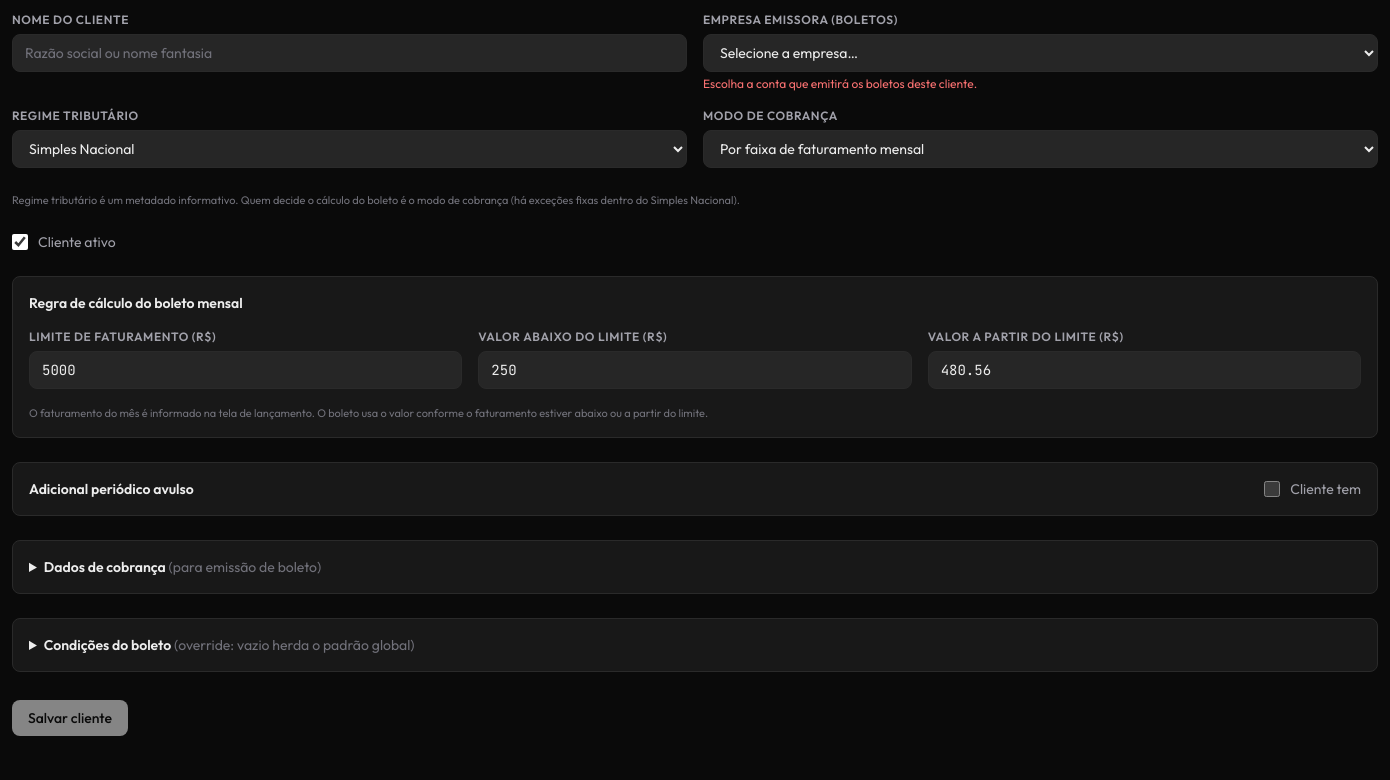
ClienteContabilidadeForm › bloqueia salvar até escolher a empresa emissora e preencher o nome (regra faixa_faturamento vem pré-preenchida)
expect the button "Salvar cliente" is disabled: met, box [12, 700, 128, 736]
Type "Padaria Bom Pão Ltda" into the field labelled "Nome do cliente" at point(350, 53), box [12, 34, 687, 72]
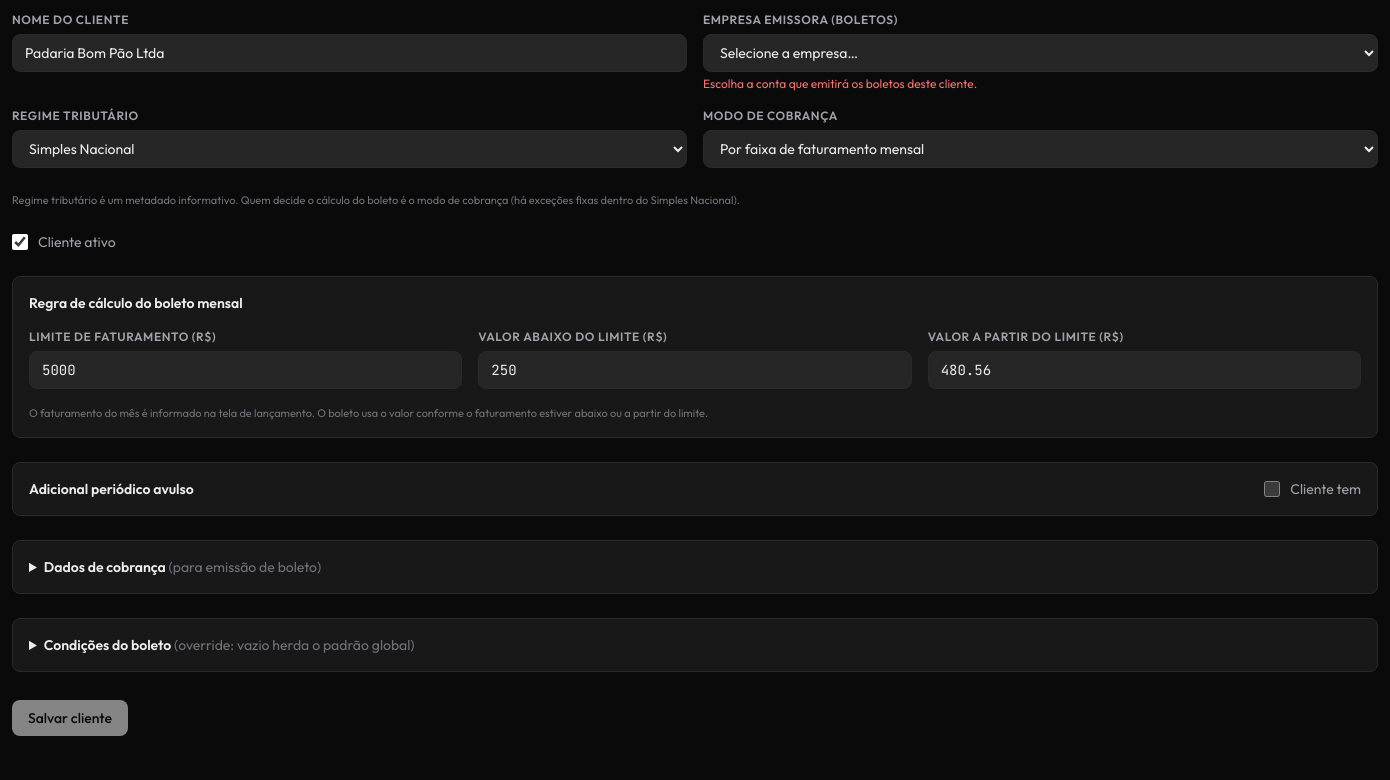
expect the button "Salvar cliente" is disabled: met, box [12, 700, 128, 736]
Select "MC" in the dropdown labelled "Empresa emissora" at point(1040, 53), box [703, 34, 1378, 72]
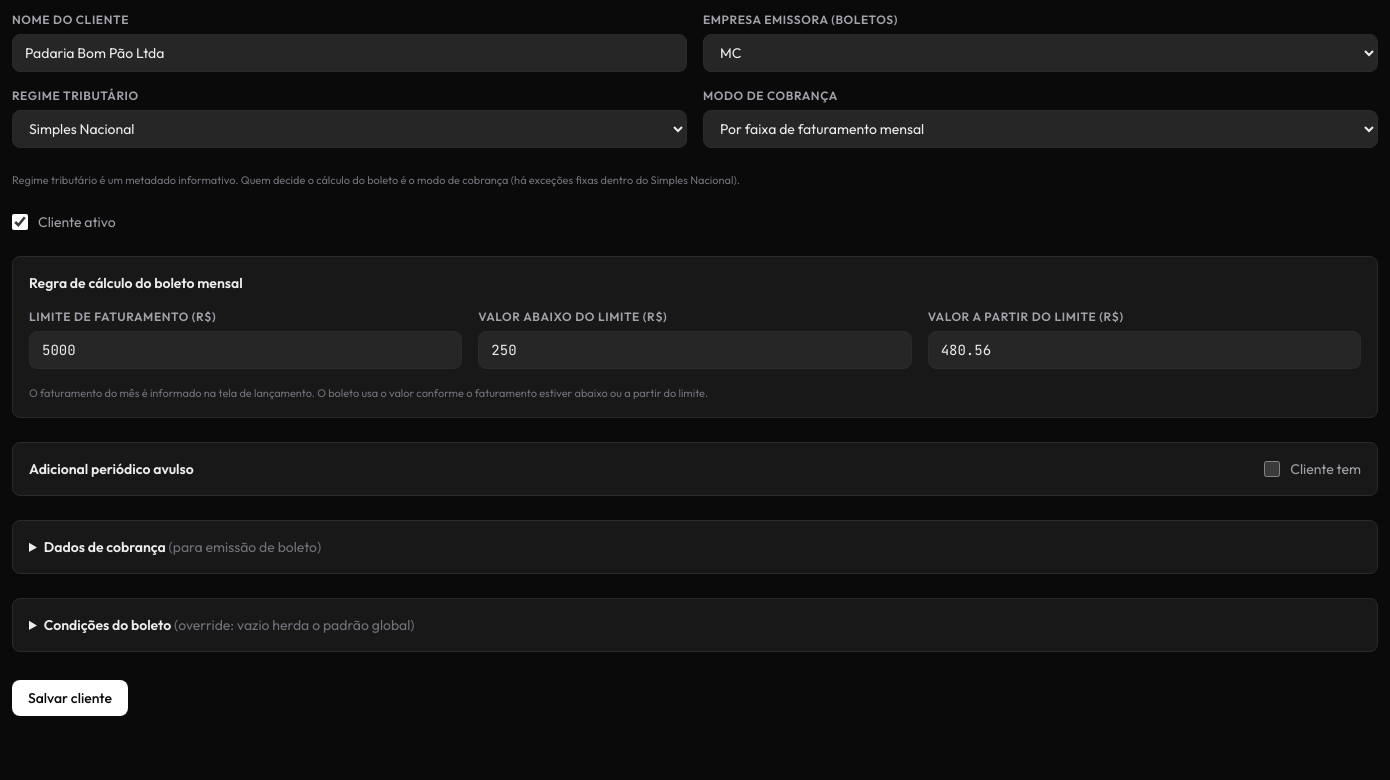
expect the button "Salvar cliente" is enabled: met, box [12, 680, 128, 716]
